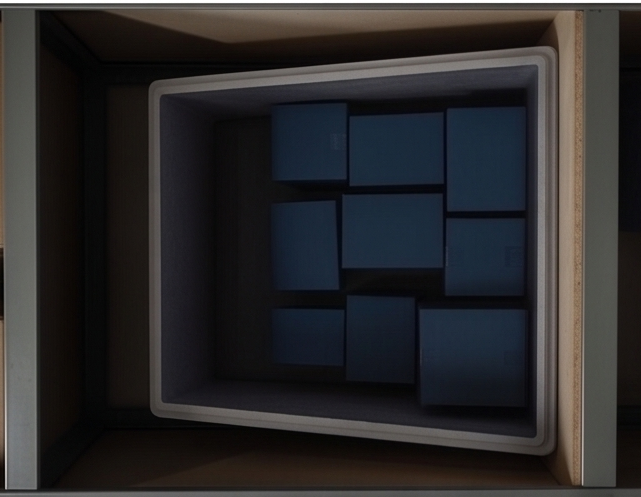blue_box: (113, 91, 223, 199), (110, 286, 195, 395), (194, 229, 302, 305), (197, 315, 295, 390), (224, 114, 296, 206), (292, 316, 369, 400), (113, 201, 195, 279), (302, 207, 369, 299), (295, 130, 370, 190)
container_box: (84, 42, 492, 454)
